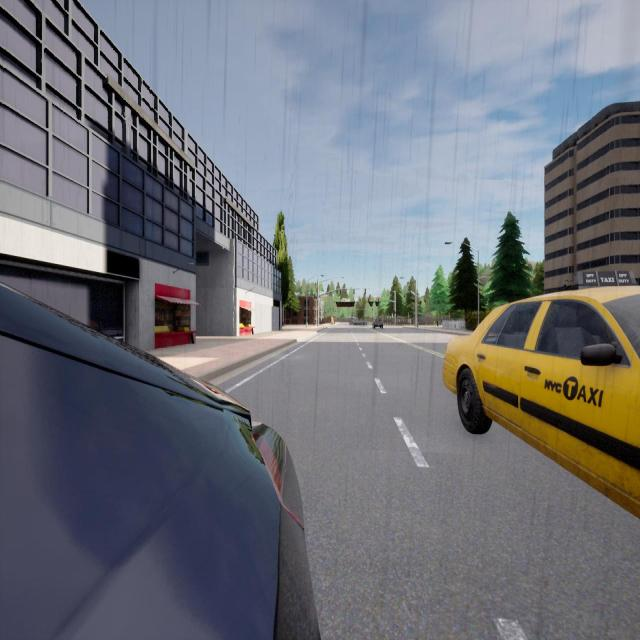Vehicle: (0, 282, 318, 640), (443, 286, 639, 518), (372, 318, 383, 330), (353, 320, 368, 326), (349, 317, 356, 326)
traffic_light: (404, 293, 406, 298), (353, 289, 355, 294), (394, 310, 396, 314), (340, 289, 341, 294), (365, 289, 366, 294)
